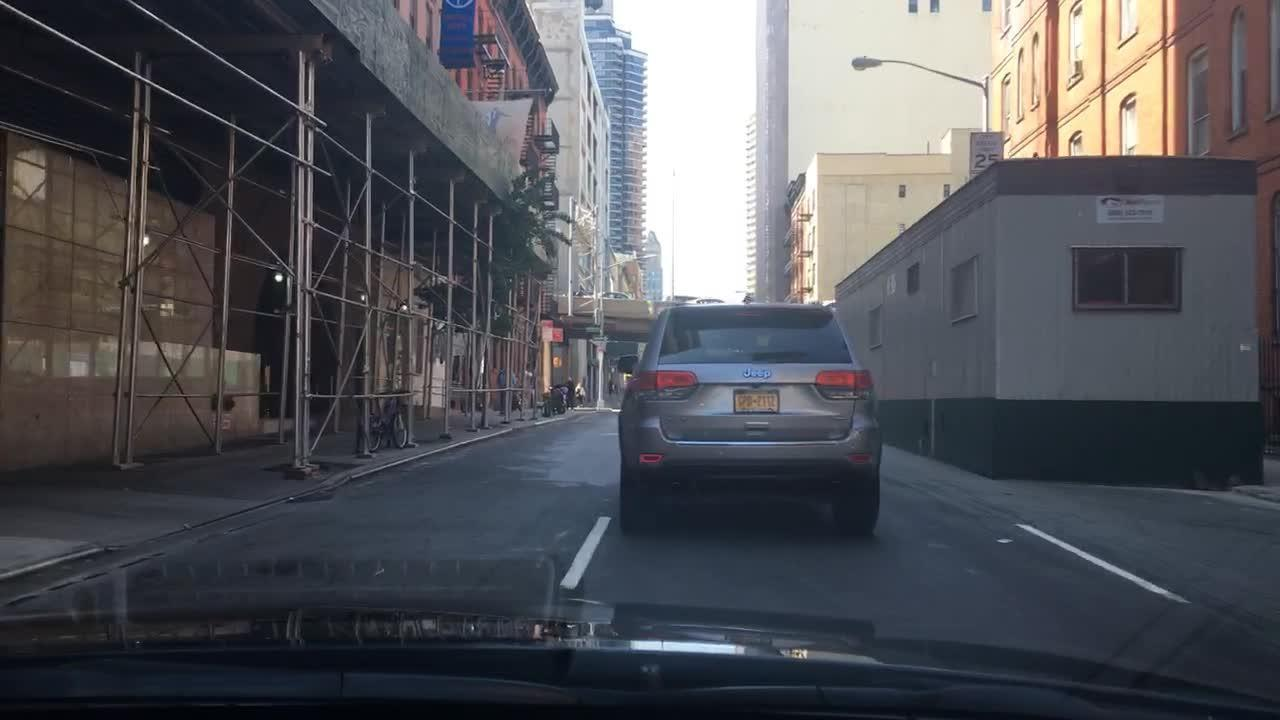jeep: (742, 359, 779, 387)
